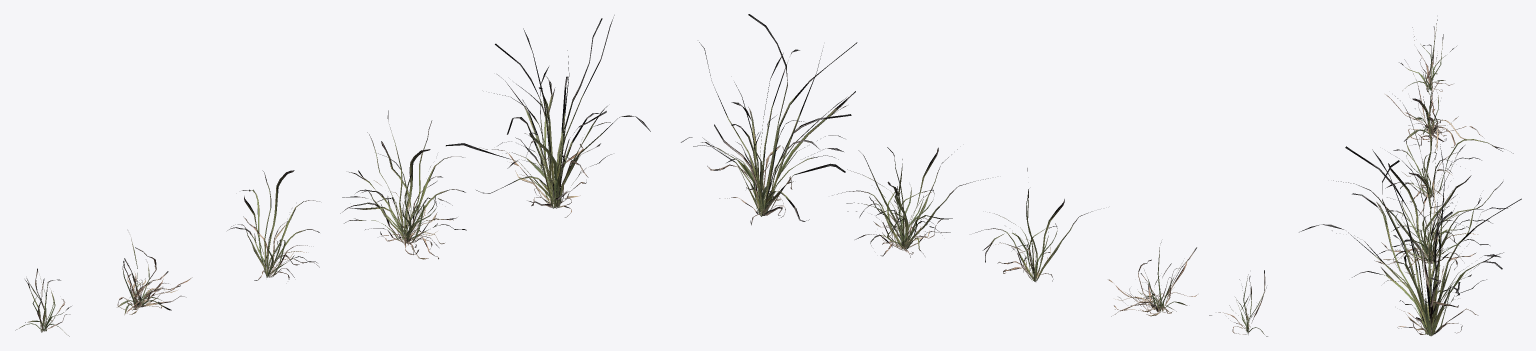
File: grass.glb
3 views of the same model, side by side, from view 1: azimuth 30°, elevation 25°; view 2: azimuth 150°, elevation 25°; view 3: azimuth 270°, elevation 25° (orthographic). The views are drawn at different scales.
Visible parts, largest first — view 1: grass_medium_02_e, grass_medium_02_d, grass_medium_02_c, grass_medium_02_b, grass_medium_02_a; view 2: grass_medium_02_e, grass_medium_02_d, grass_medium_02_c, grass_medium_02_b, grass_medium_02_a; view 3: grass_medium_02_e, grass_medium_02_d, grass_medium_02_c, grass_medium_02_b, grass_medium_02_a.
Boxes of the visible parts, box(x1,y1,x2,y2) form: grass_medium_02_e: box(446, 15, 650, 217); grass_medium_02_d: box(340, 110, 466, 259); grass_medium_02_c: box(227, 170, 319, 280); grass_medium_02_b: box(117, 238, 192, 314); grass_medium_02_a: box(15, 268, 71, 336); grass_medium_02_e: box(681, 14, 857, 225); grass_medium_02_d: box(832, 147, 988, 257); grass_medium_02_c: box(975, 168, 1092, 281); grass_medium_02_b: box(1108, 242, 1197, 316); grass_medium_02_a: box(1209, 270, 1267, 336); grass_medium_02_e: box(1299, 144, 1521, 336); grass_medium_02_d: box(1333, 145, 1507, 274); grass_medium_02_c: box(1385, 96, 1513, 215); grass_medium_02_b: box(1385, 55, 1482, 150); grass_medium_02_a: box(1399, 19, 1456, 91).
Bounding box in the file's own units: 1.31 × 0.4053 × 0.4326.
Materials: 1 (1 with a texture image).
